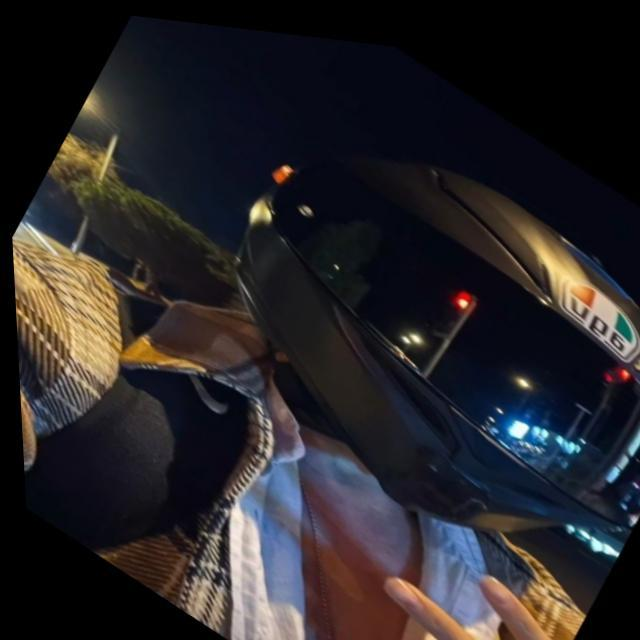Helmet: (216, 119, 640, 559)
